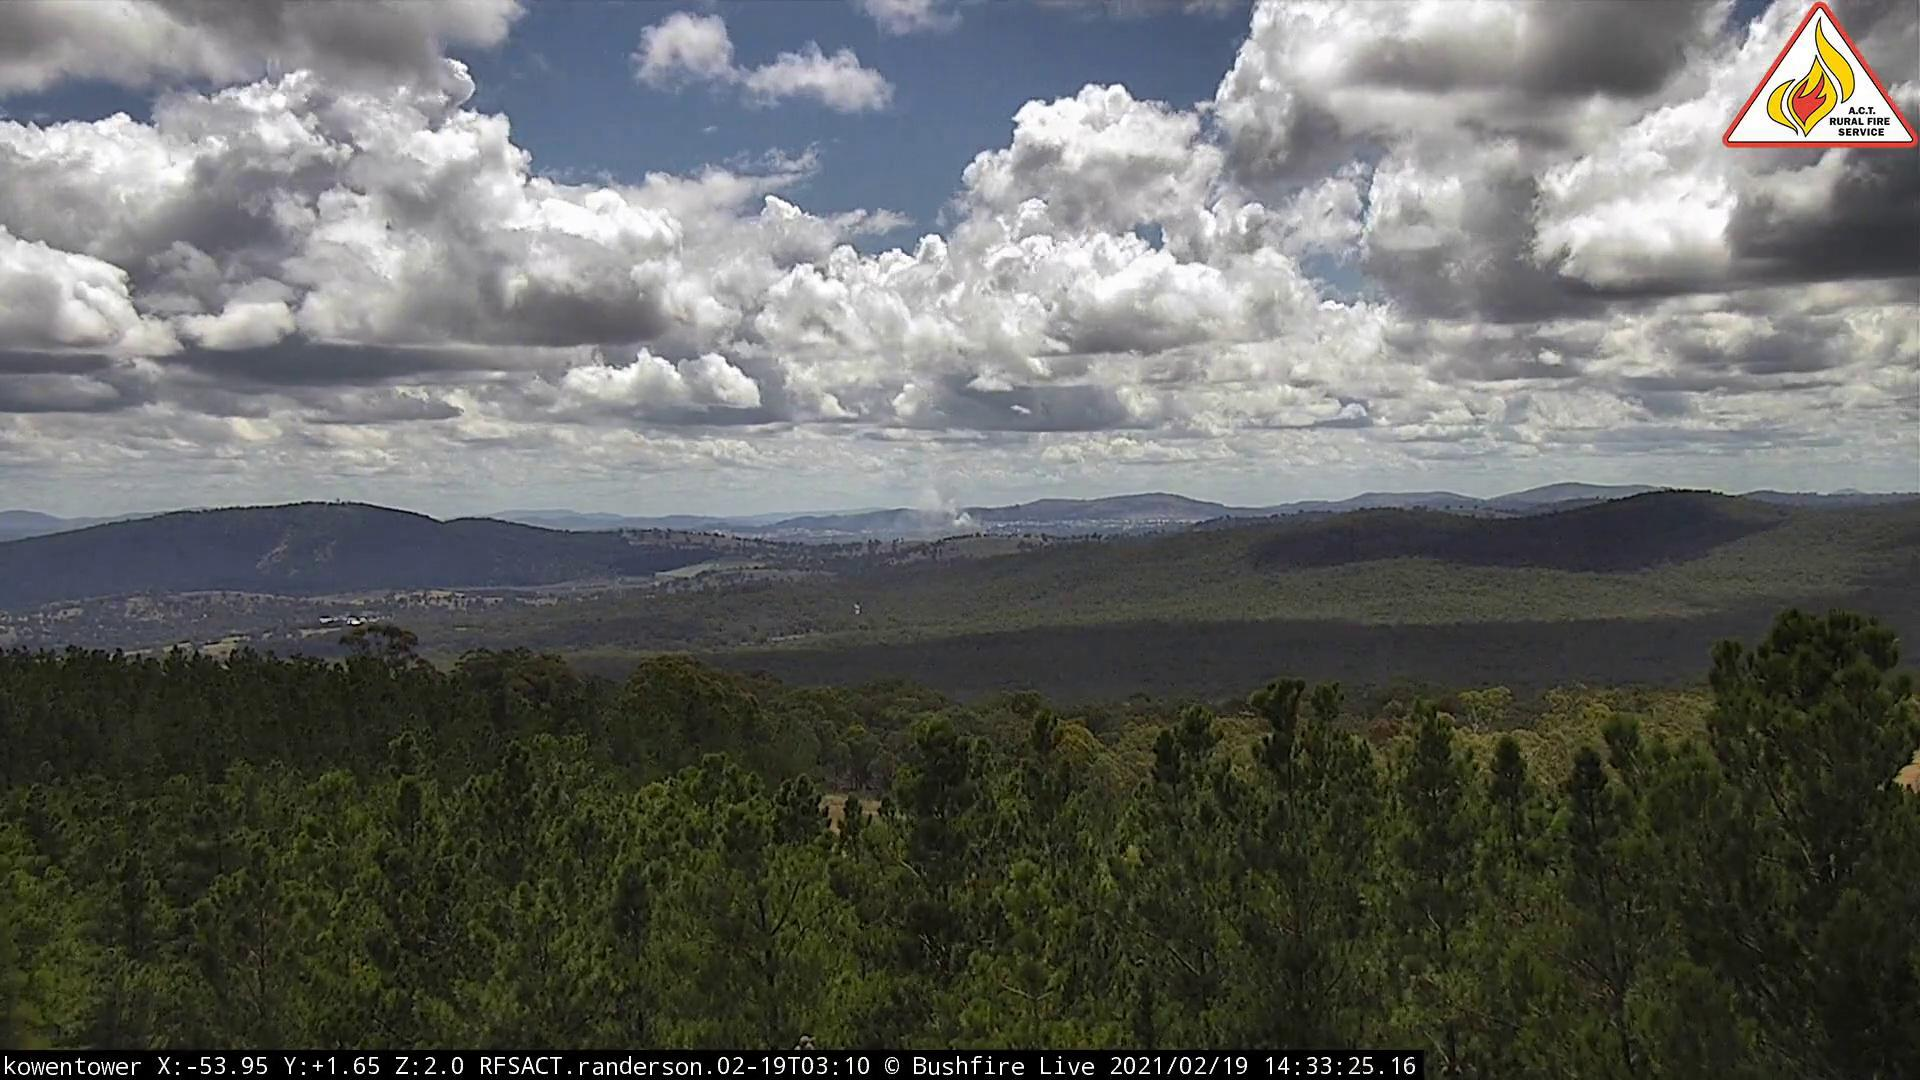Smoke: (881, 487, 982, 550)
